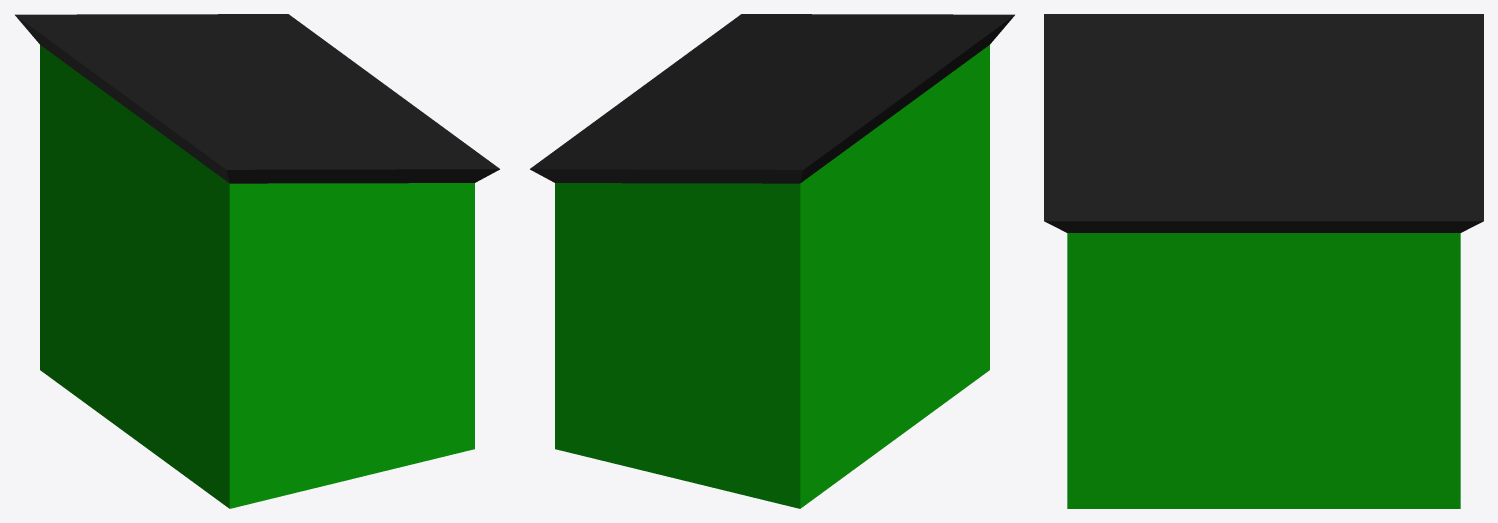
The model's file is trash.fbx.
3 renders of one model, left to right at view 1: azimuth 30°, elevation 25°; view 2: azimuth 150°, elevation 25°; view 3: azimuth 270°, elevation 25°, orthographic. The views are drawn at different scales.
Visible parts, largest first — view 1: trash; view 2: trash; view 3: trash.
Boxes of the visible parts, x1,y1,x2,y2 form: trash: (15, 14, 499, 508); trash: (530, 14, 1014, 508); trash: (1044, 14, 1483, 508).
Bounding box in the file's own units: 4.03 × 4.93 × 5.4.
